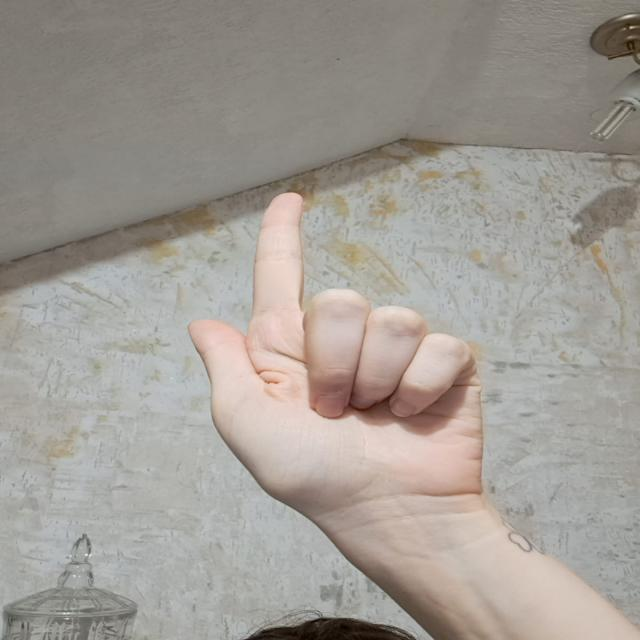G: (176, 184, 496, 540)
